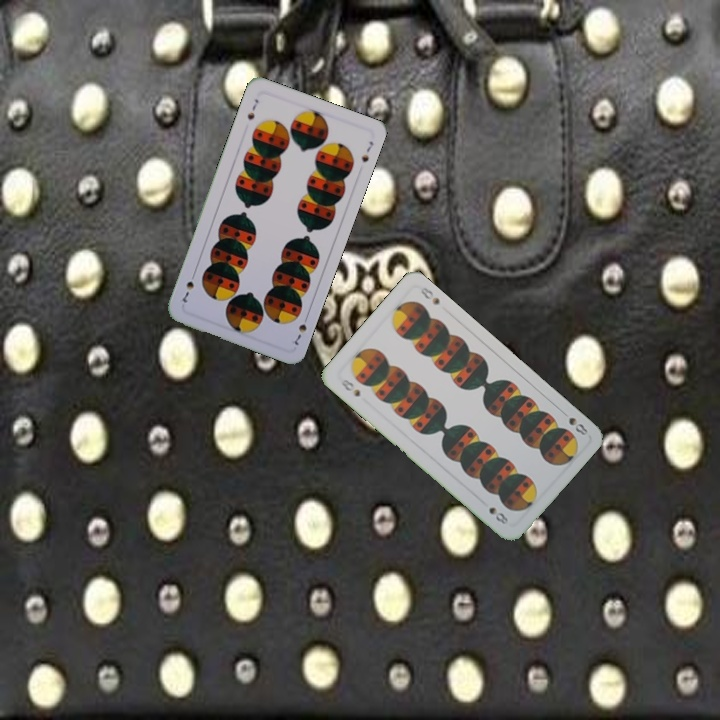S7: (290, 310, 311, 348), (243, 95, 261, 122)
S8: (564, 413, 590, 438), (337, 375, 363, 399)
